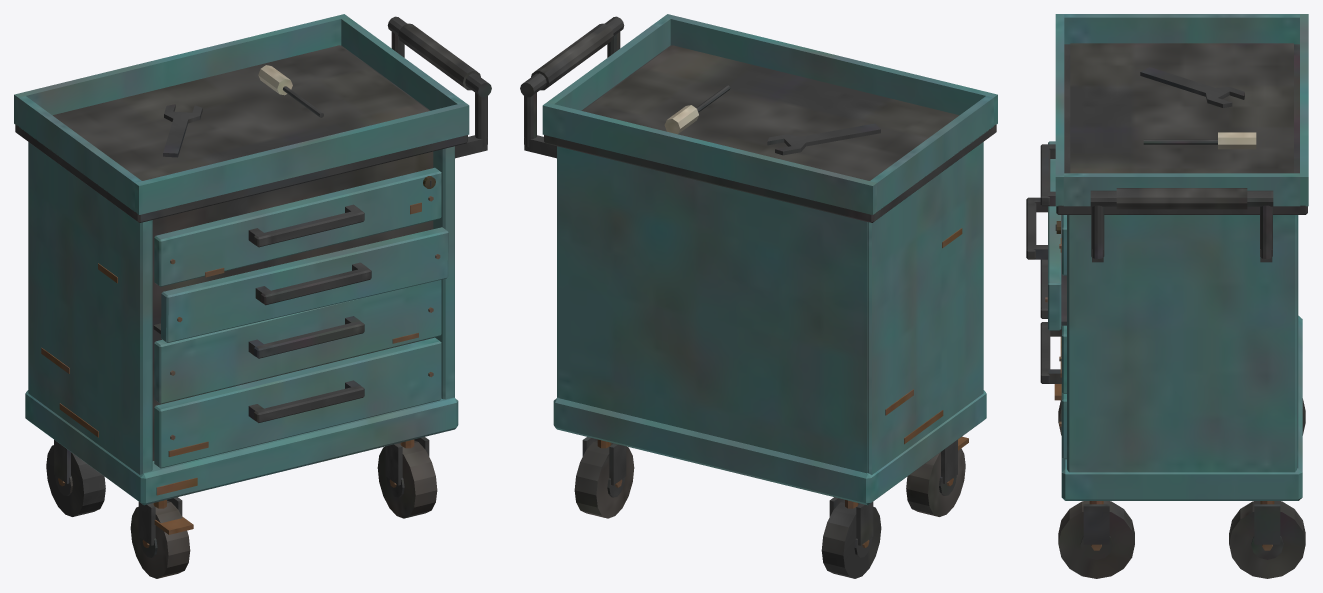
File: CS22_tool_trolley.glb
3 views of the same model, side by side, from view 1: azimuth 30°, elevation 25°; view 2: azimuth 150°, elevation 25°; view 3: azimuth 270°, elevation 25° (orthographic).
Parts seen in each view (by area): view 1: Caster swivel; view 2: Caster swivel; view 3: Caster swivel.
Boxes of the visible parts, bbox=[...] form: Caster swivel: bbox=[14, 14, 491, 578]; Caster swivel: bbox=[520, 14, 997, 578]; Caster swivel: bbox=[1026, 14, 1308, 578].
Size of the model in its own units: 0.935 by 1 by 0.6063.
6 materials, 6 textured.
